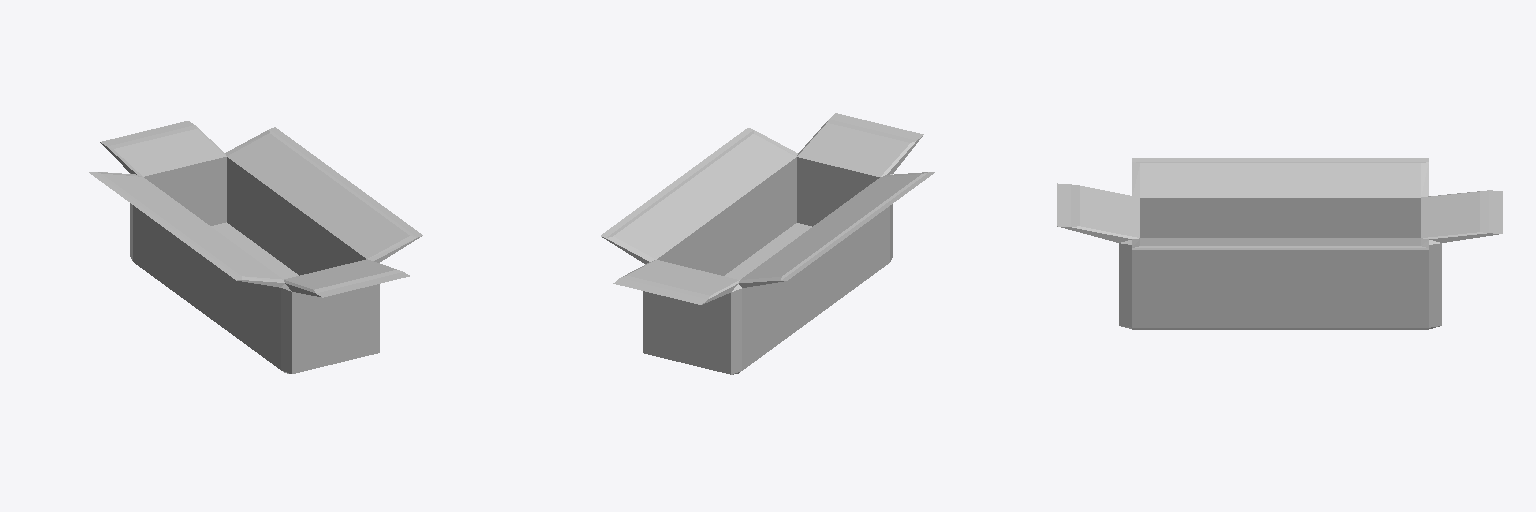
The model's file is LongBox.obj.
3 renders of one model, left to right at view 1: azimuth 30°, elevation 25°; view 2: azimuth 150°, elevation 25°; view 3: azimuth 270°, elevation 25°, orthographic.
Visible parts, largest first — view 1: Cube.006; view 2: Cube.006; view 3: Cube.006.
Part boxes in pixels (x1,y1,x2,y2): Cube.006: (89, 121, 422, 373); Cube.006: (601, 113, 934, 374); Cube.006: (1057, 158, 1502, 329).
Bounding box in the file's own units: 24.15 × 12.89 × 49.77.